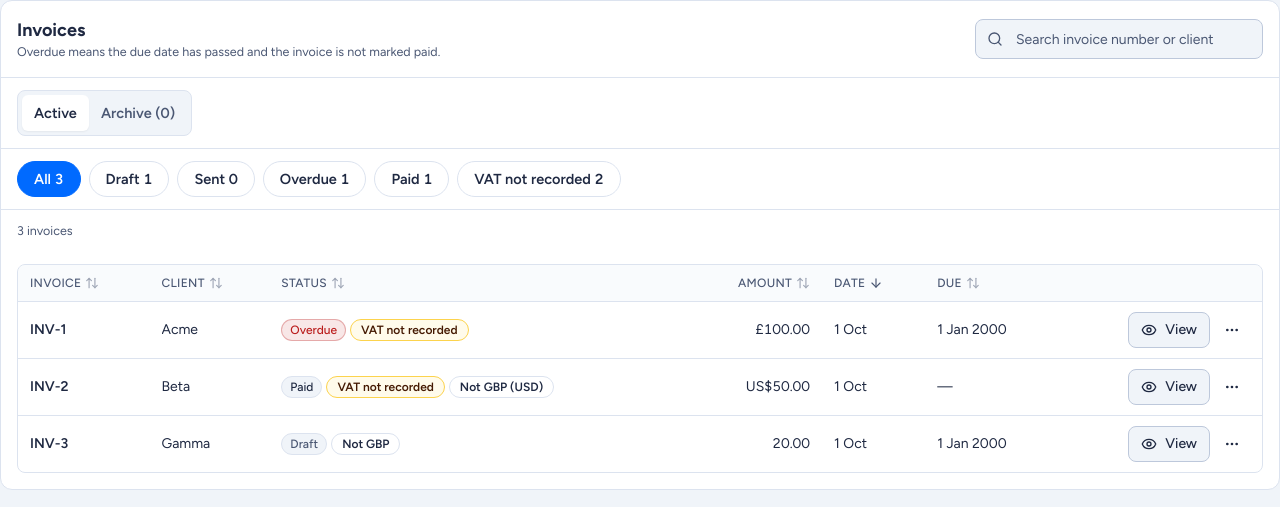
Test: DocumentsTable › an empty archive says so
Step 1. Click the button "Archive (0)" → [138, 113], box [89,95,187,131]
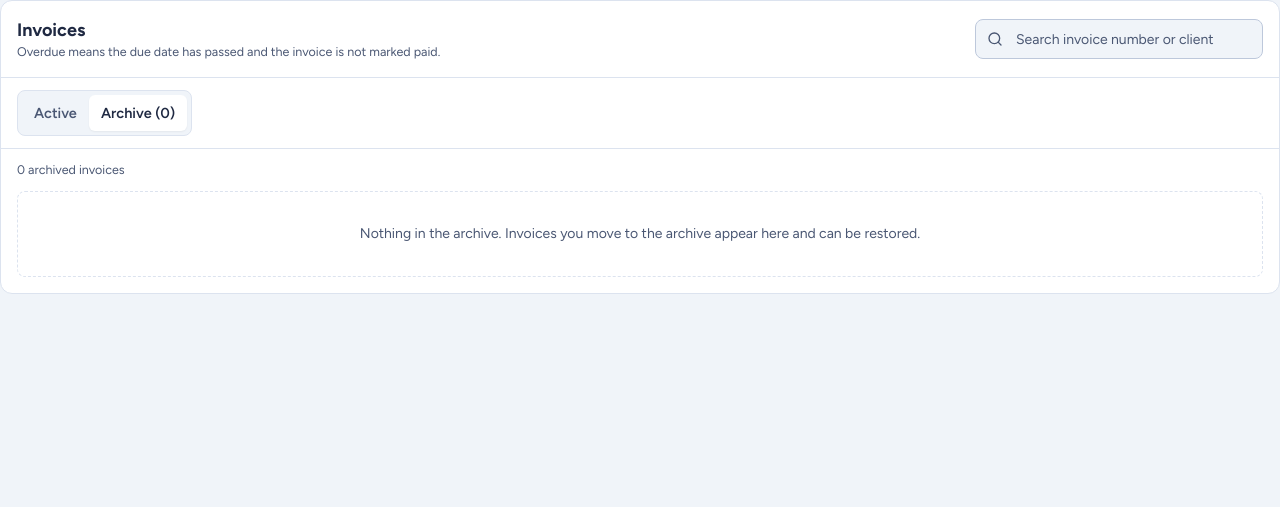
Check: the text "Nothing in the archive" is shown, box [360,225,920,242]
